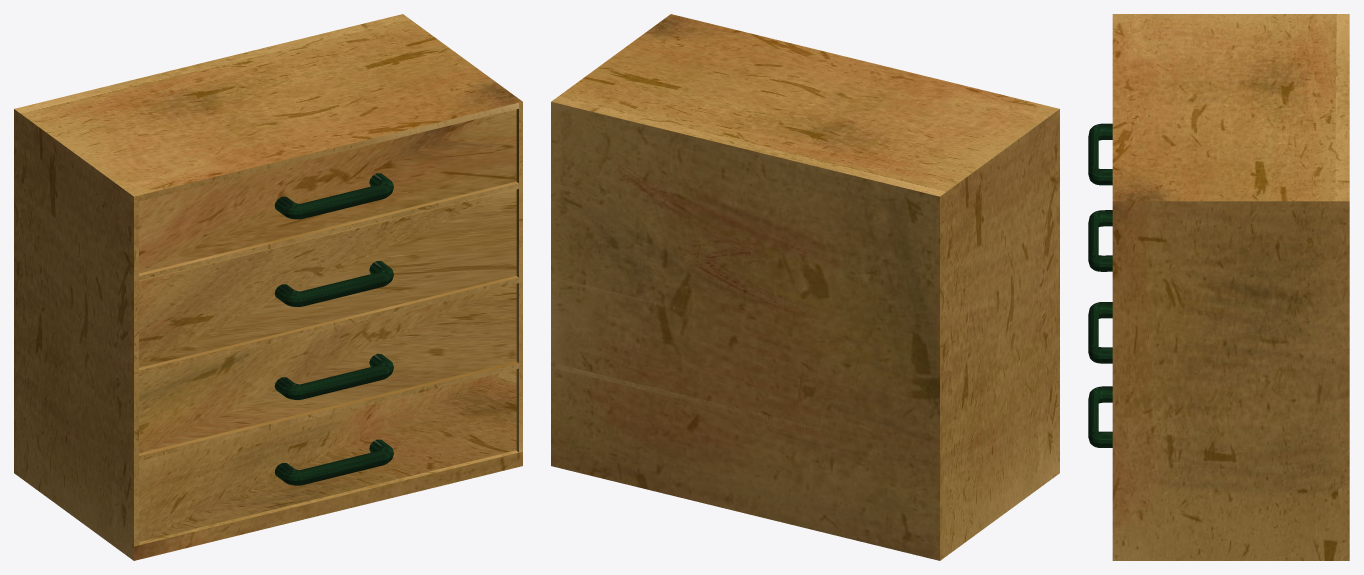
File: cekmeceseks.fbx
The picture shows the model from 3 angles, left to right: view 1: azimuth 30°, elevation 25°; view 2: azimuth 150°, elevation 25°; view 3: azimuth 270°, elevation 25°; orthographic projection.
Visible parts, largest first — view 1: Cube.013, Cube.010, Cube.021, Cube.022, Cube.011; view 2: Cube.013; view 3: Cube.013, Cube.010, Cube.021, Cube.011, Cube.022.
Part boxes in pixels (x1,y1,x2,y2): Cube.013: [14, 14, 522, 560]; Cube.010: [139, 189, 516, 367]; Cube.021: [139, 369, 516, 542]; Cube.022: [139, 283, 516, 453]; Cube.011: [139, 109, 516, 273]; Cube.013: [551, 14, 1059, 560]; Cube.013: [1112, 14, 1349, 560]; Cube.010: [1088, 210, 1112, 271]; Cube.021: [1088, 386, 1112, 447]; Cube.011: [1088, 123, 1112, 185]; Cube.022: [1088, 302, 1112, 363].
Size of the model in its own units: 1941 by 1737 by 1143.
10 materials, 10 textured.
